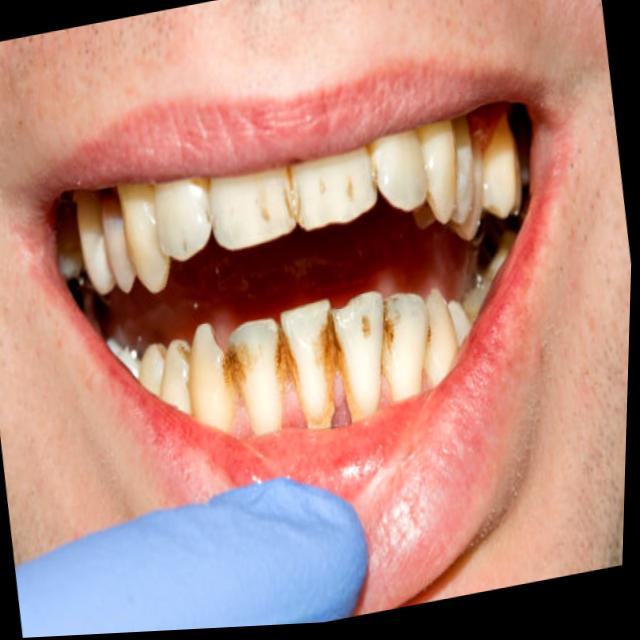cariess: (462, 218, 519, 320), (81, 291, 102, 337)
